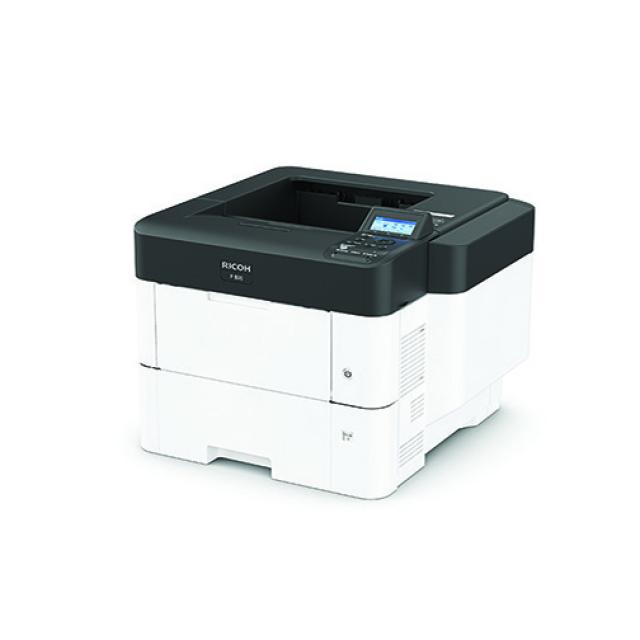printer: (132, 162, 535, 500)
